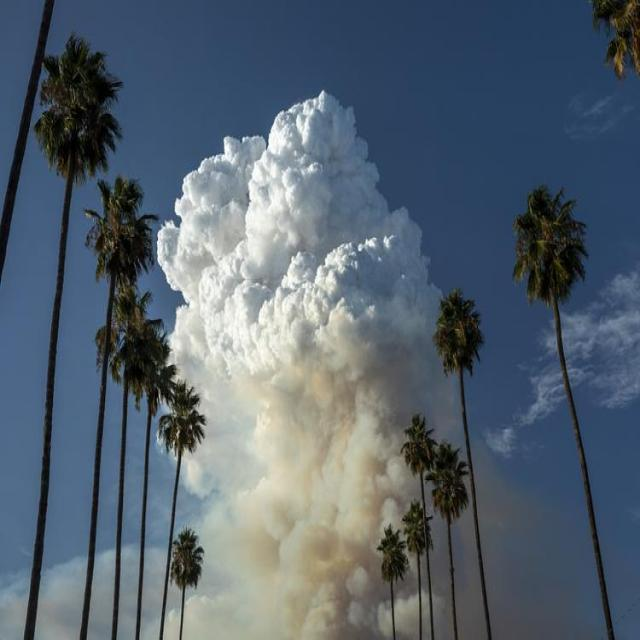Smoke: (152, 88, 440, 640)
